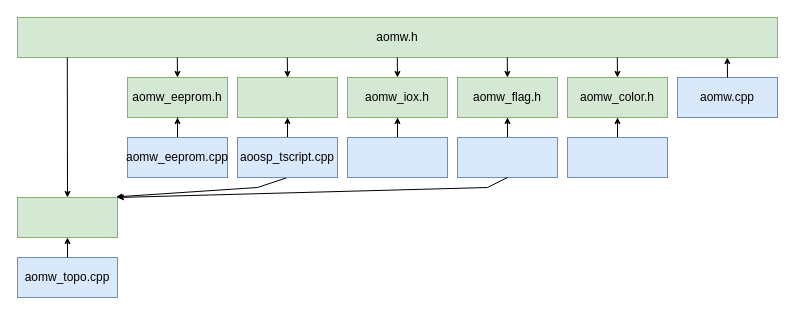
Some shapes in this 795 by 315 pixel diagram are drawn without their labels. Each missing label, with the centre of its shape:
"aomw_color.cpp" goes at point (617, 157).
"aomw_flag.cpp" goes at point (507, 157).
"aomw_iox.cpp" goes at point (397, 157).
"aomw_topo.h" goes at point (67, 217).
"aoosp_tscript.h" goes at point (287, 97).
